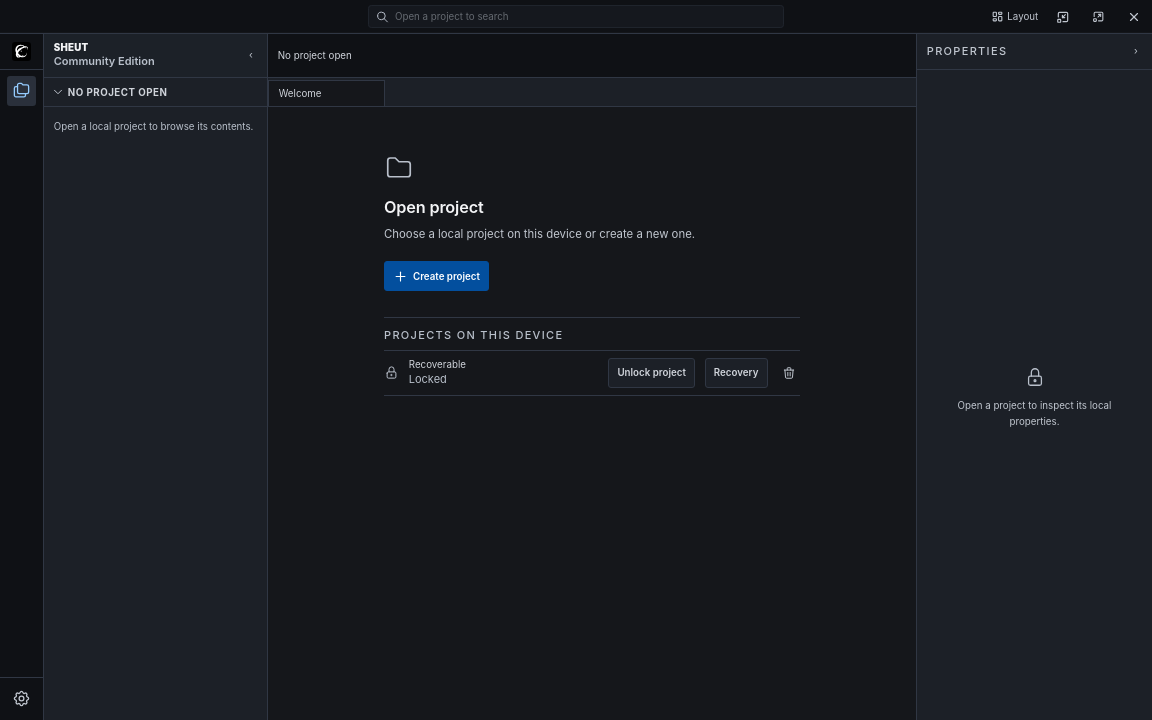
Scenario: App › restores a selected device recovery point without a frontend path
Expected: the text "Recoverable" is shown, [409, 359, 466, 370]
Click the button "Recovery": [736, 373] box [705, 358, 768, 388]
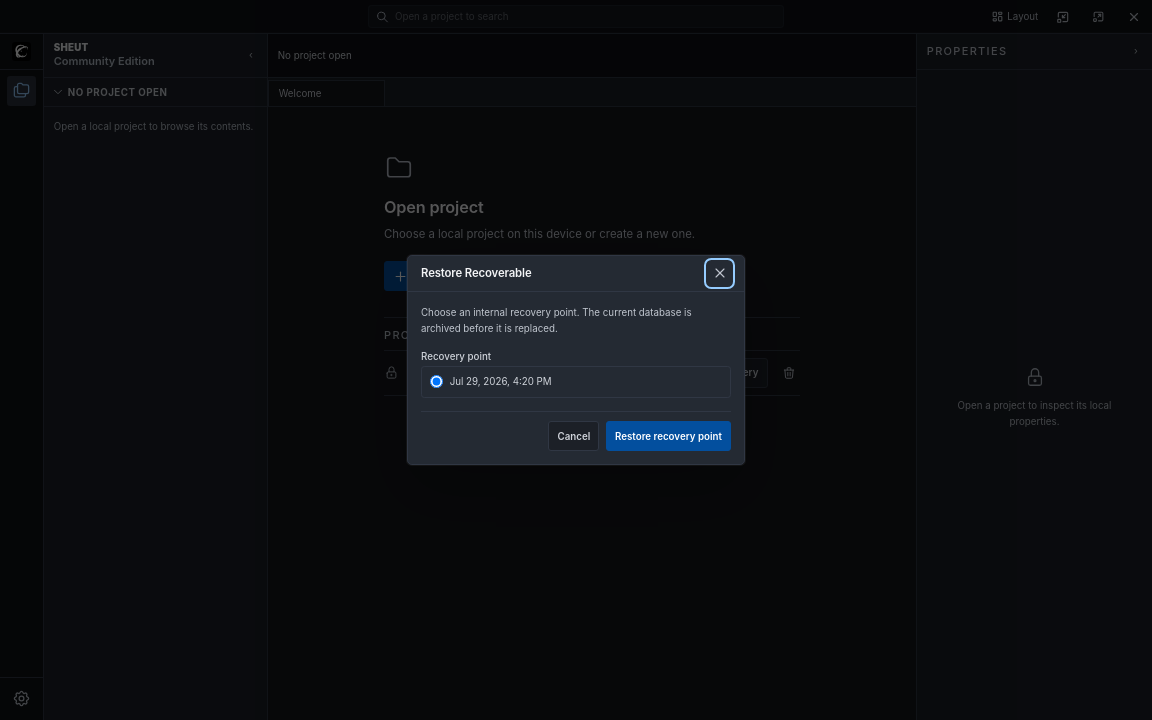
Click the button "Restore recovery point": [668, 436] box [606, 421, 731, 451]
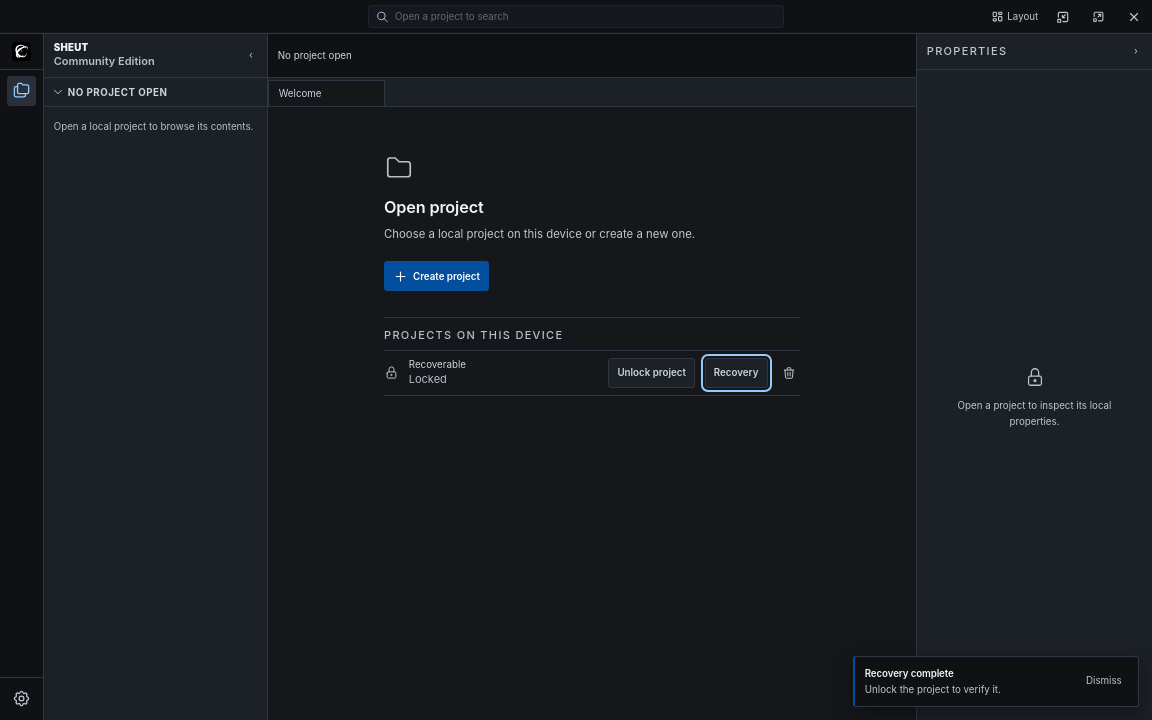
Result: the dialog "Recovery complete" is shown at [853, 656, 1139, 707]
Result: the text "Unlock the project to verify it." is shown at [865, 684, 1001, 695]
